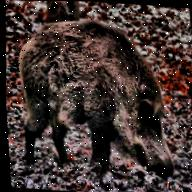boar: (7, 11, 183, 183)
